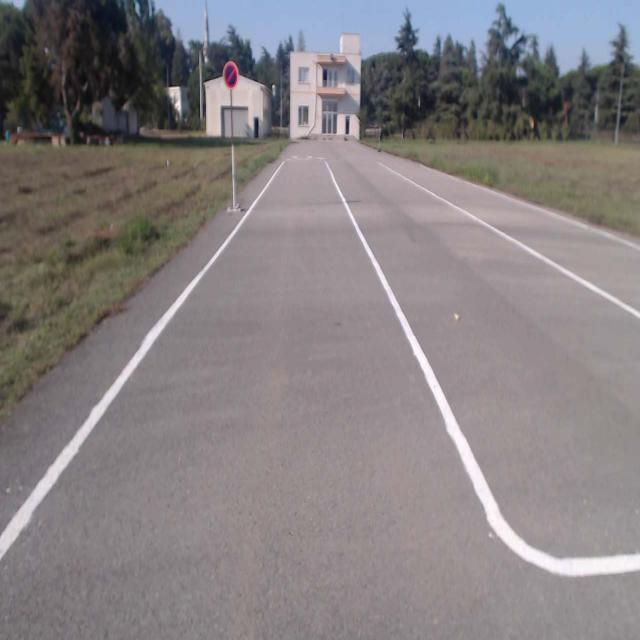parkyasak: (223, 61, 238, 88)
